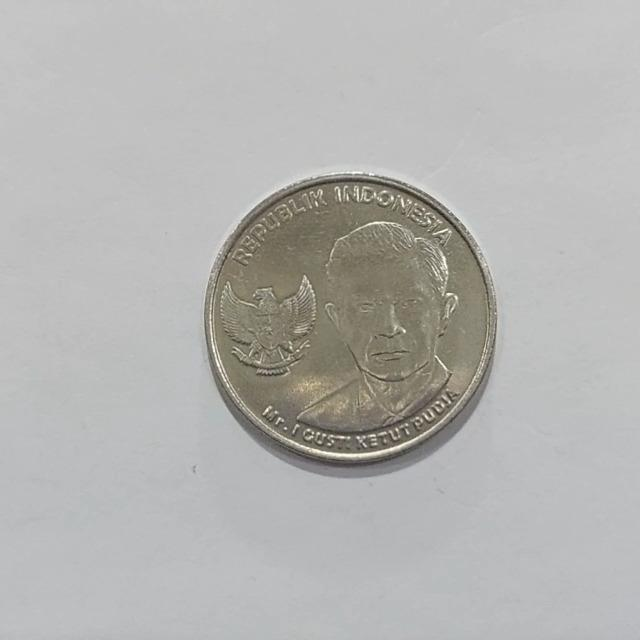Rp100: (203, 170, 498, 466), (291, 218, 462, 436), (216, 272, 318, 377)
